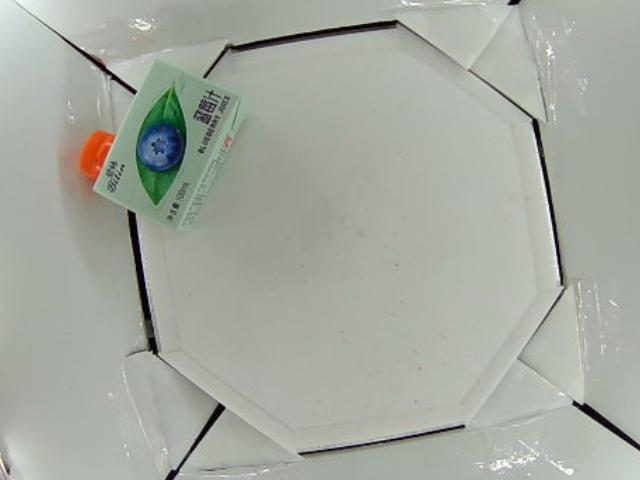Bottle: (75, 55, 250, 232)
